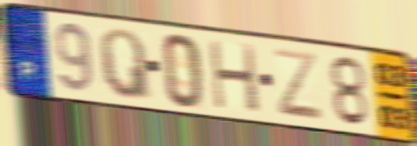0: (160, 31, 204, 110)
8: (328, 54, 370, 128)
9: (53, 20, 96, 96)
H: (206, 38, 263, 116)
Q: (96, 26, 155, 104)
Z: (271, 45, 326, 124)
